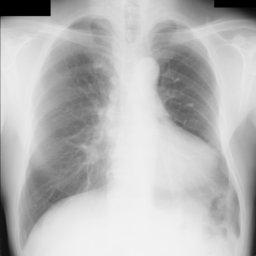left lobe: (153, 21, 219, 148)
right lobe: (22, 17, 115, 240)
